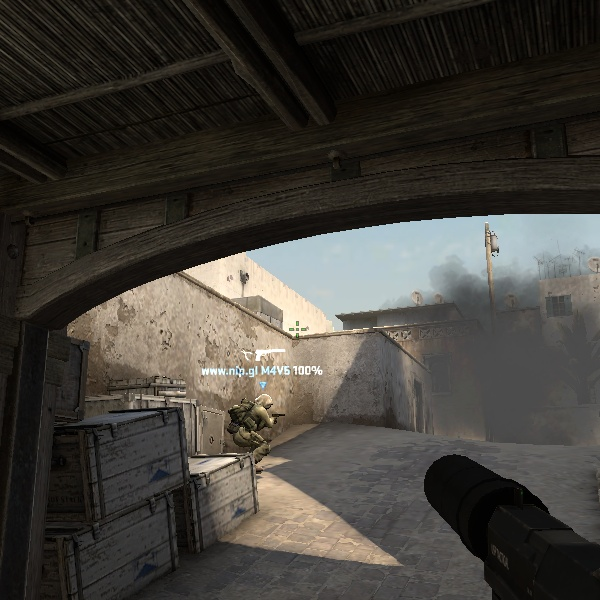ct_body: (228, 393, 281, 453), (255, 393, 273, 409)
